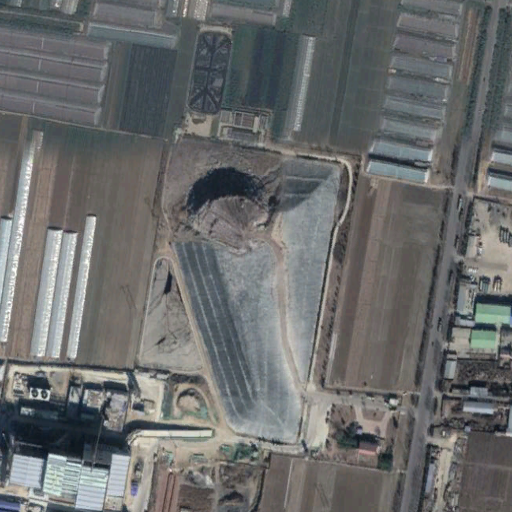lf: (156, 131, 350, 453)
